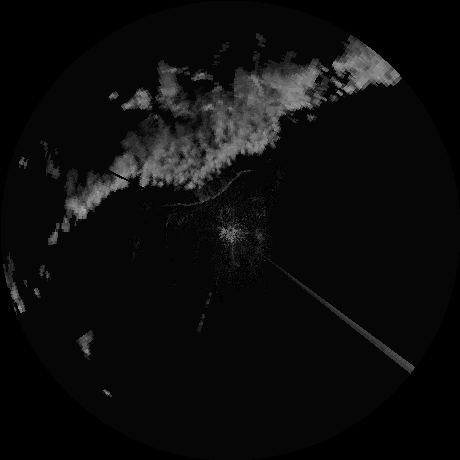frontgust: (175, 169, 250, 205)
